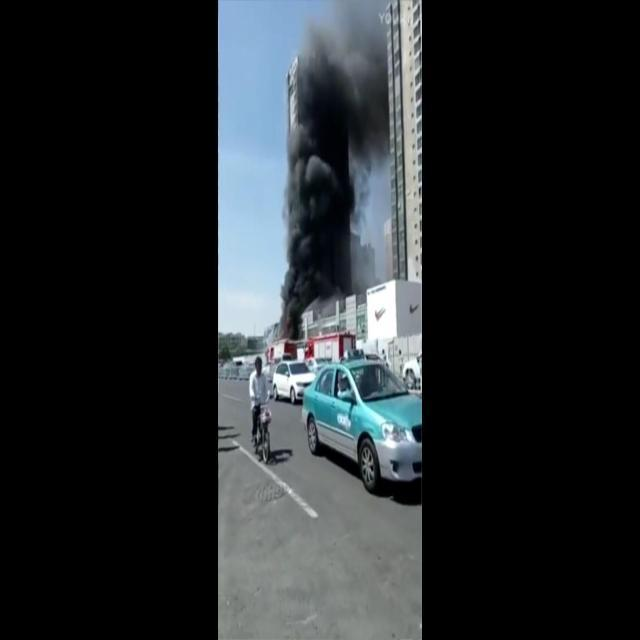Smoke: (272, 28, 386, 340)
